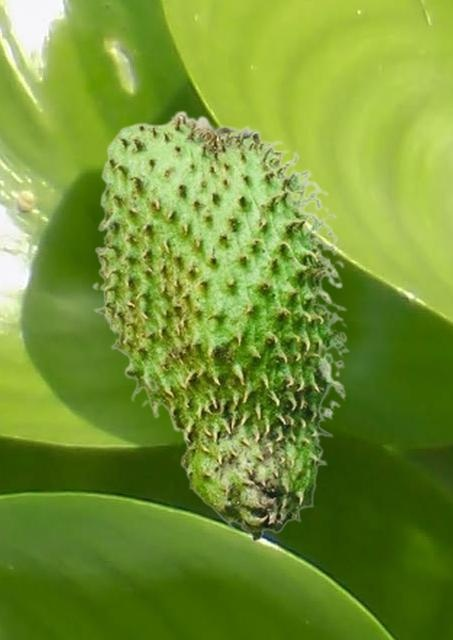guyabano: (91, 109, 350, 542)
